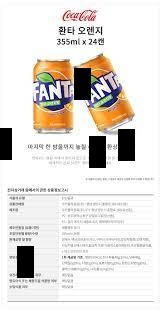fanta_orange: (32, 54, 74, 138)
